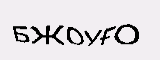В: (94, 7, 112, 33)
Г: (115, 8, 130, 30)
Д: (75, 7, 95, 40)
Ж: (28, 14, 53, 41)
Э: (52, 7, 76, 41)
